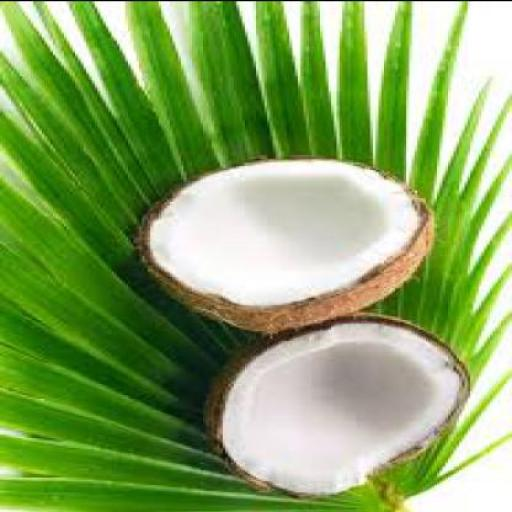biodegradable: (2, 1, 511, 511), (134, 150, 442, 332), (200, 310, 476, 499)
